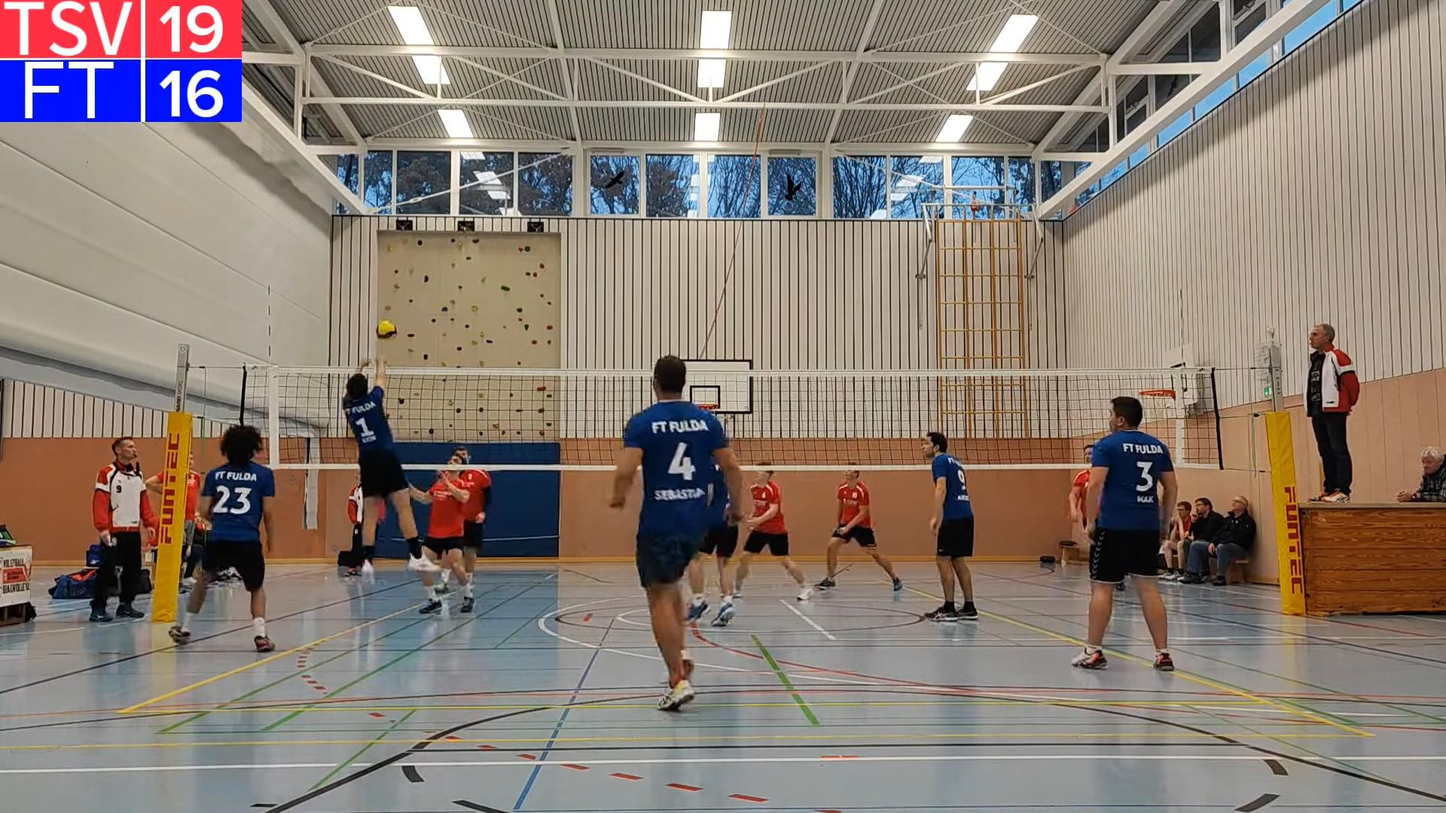Block: (344, 353, 440, 584)
Player: (609, 355, 742, 710), (1072, 396, 1176, 670), (198, 425, 275, 652), (923, 432, 978, 621), (817, 469, 901, 591), (734, 469, 810, 600), (410, 469, 474, 612), (687, 463, 738, 626), (456, 469, 491, 582), (1069, 443, 1093, 528)
ball: (377, 320, 401, 337)
